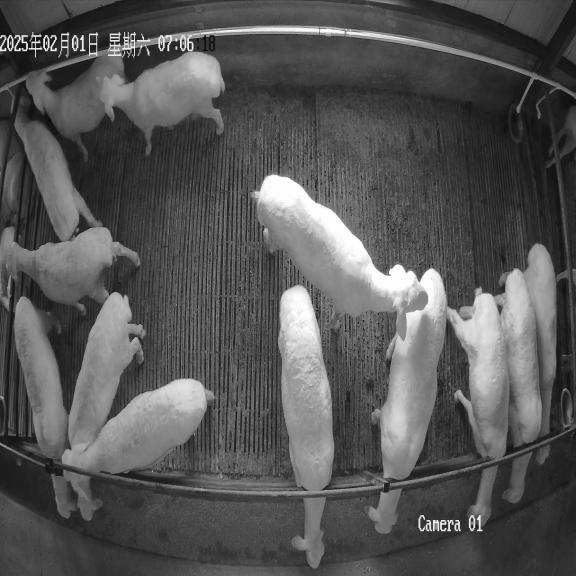eating: (365, 268, 447, 534), (278, 285, 334, 568), (62, 292, 145, 470), (447, 288, 509, 522), (14, 296, 77, 518), (496, 268, 542, 504), (524, 243, 556, 465), (63, 471, 102, 521)
stand: (252, 175, 428, 340), (62, 379, 213, 474), (14, 83, 102, 241), (100, 52, 225, 156), (0, 227, 140, 314), (26, 56, 124, 161)
